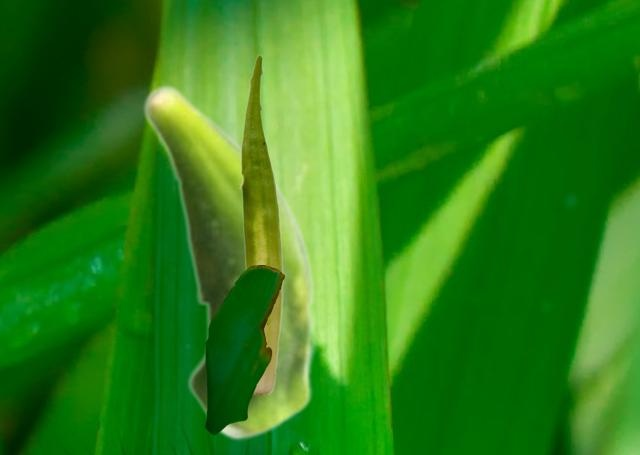okra: (141, 83, 317, 440), (239, 54, 282, 393)
